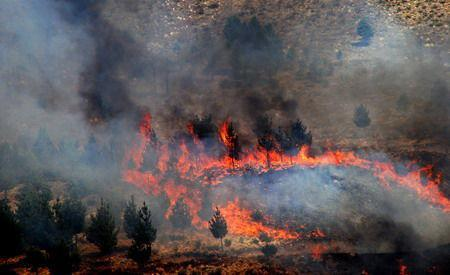fire: (129, 111, 445, 237)
